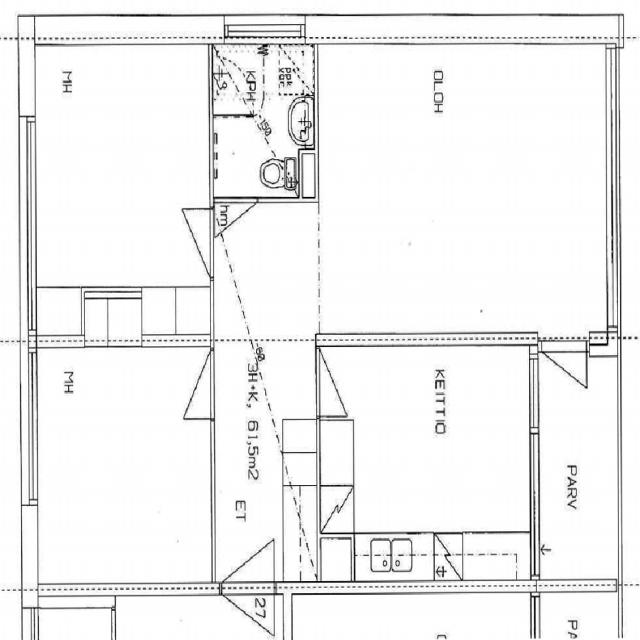door: (219, 503, 274, 595), (542, 331, 586, 420), (162, 351, 214, 419), (162, 208, 214, 276), (315, 349, 366, 415), (215, 197, 256, 261)
